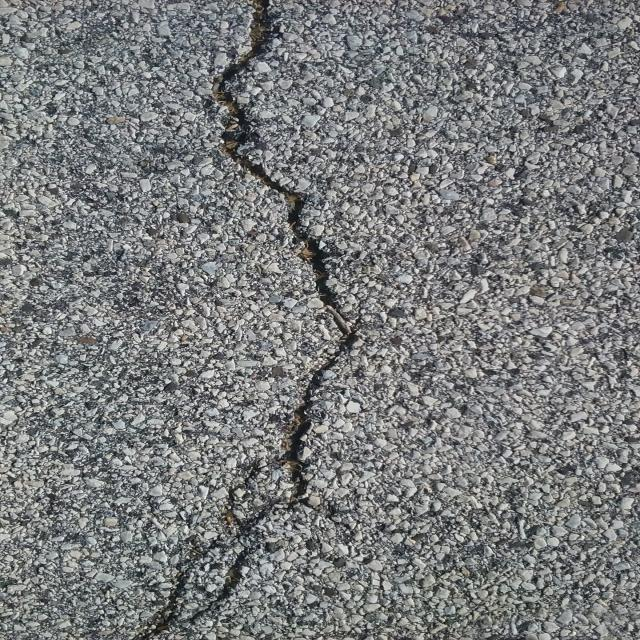Longitudial: (47, 0, 381, 640)
